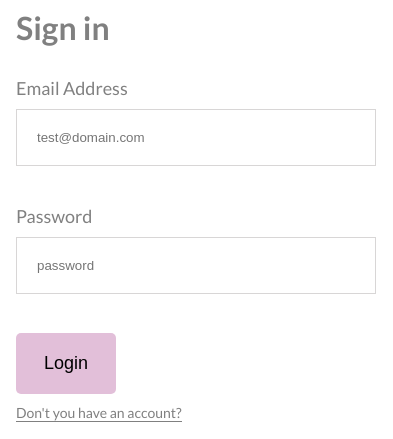
Test: email errors should be rendered when click
Step 1. Click the button → click(66, 364), box [16, 333, 116, 394]
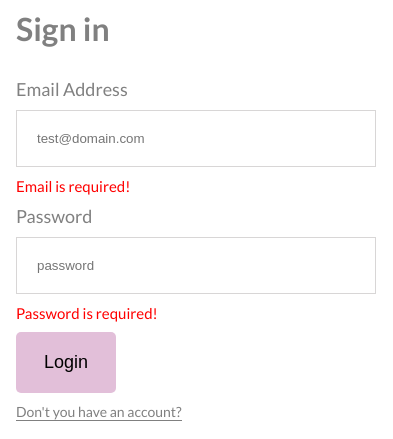
Result: the text with test id "emailError" reads "Email is required!" at [16, 177, 130, 195]
